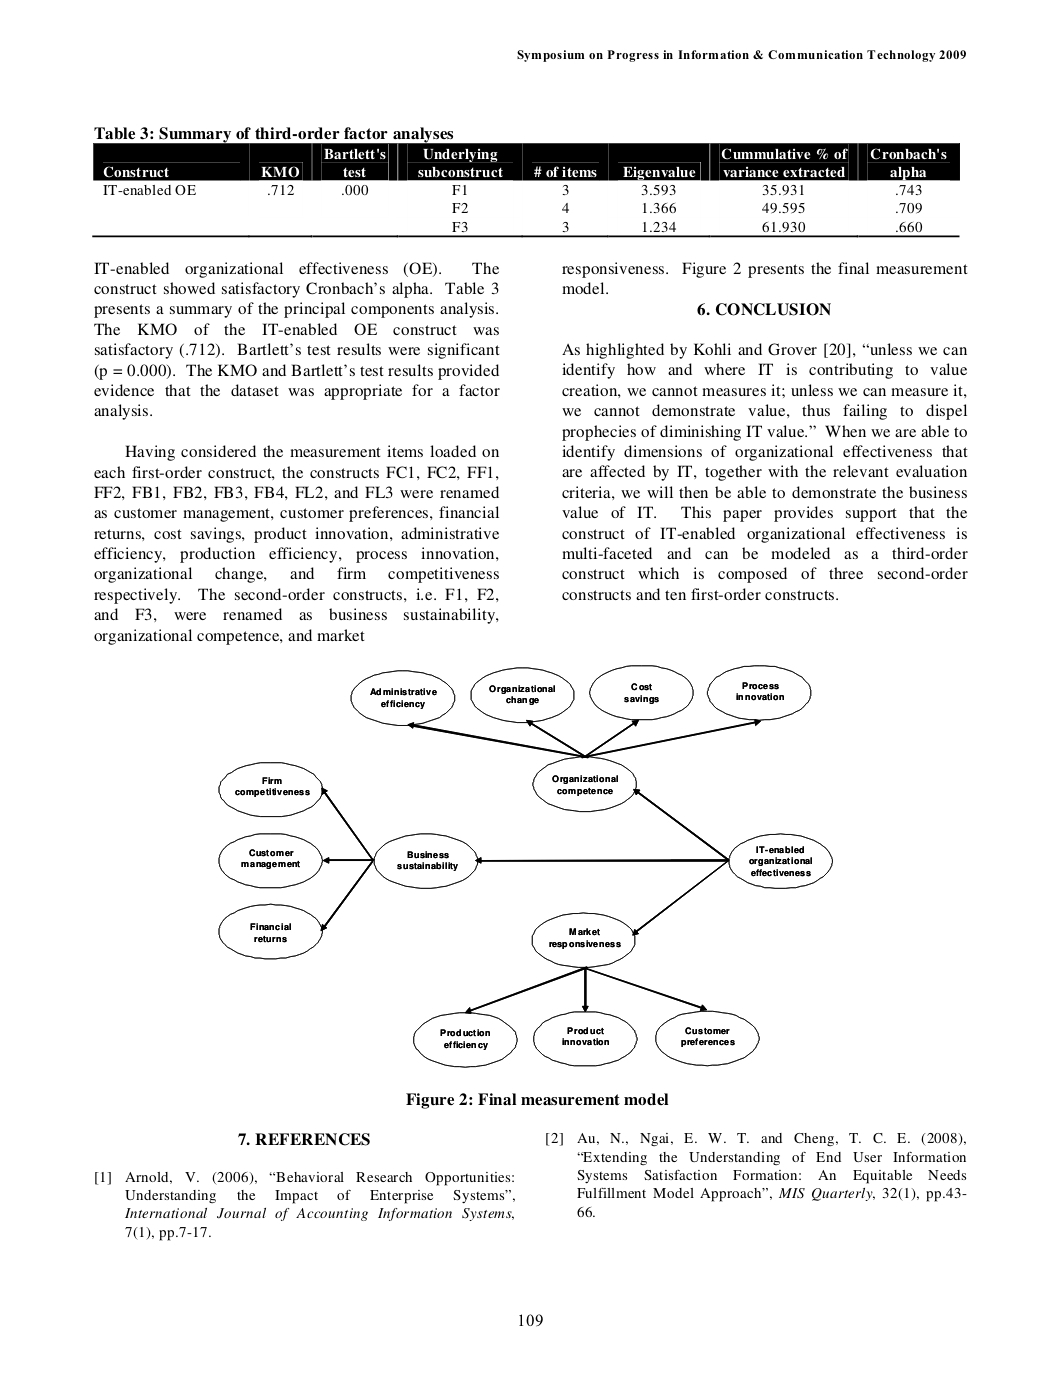Table: (93, 127, 958, 237)
figure: (218, 664, 833, 1068)
